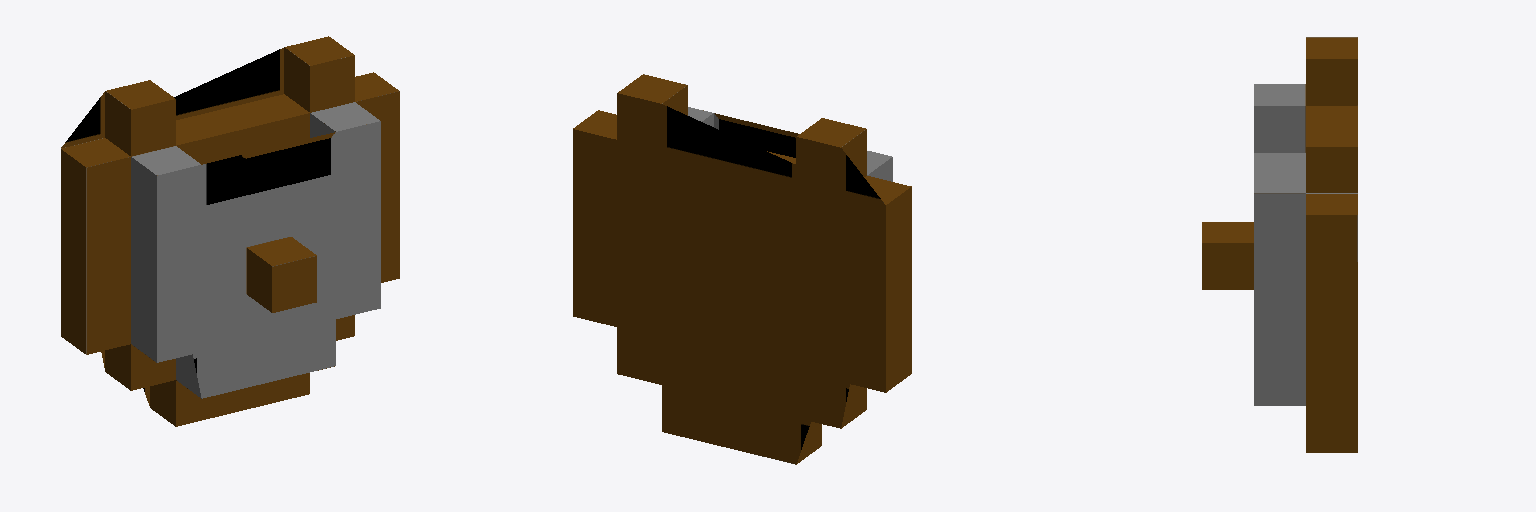
The picture shows the model from 3 angles: view 1: azimuth 30°, elevation 25°; view 2: azimuth 150°, elevation 25°; view 3: azimuth 270°, elevation 25°; orthographic projection.
Parts seen in each view (by area): view 1: Shield_1_Shield_1.001; view 2: Shield_1_Shield_1.001; view 3: Shield_1_Shield_1.001.
Boxes of the visible parts, box(x1,y1,x2,y2) form: Shield_1_Shield_1.001: box(61, 36, 399, 426); Shield_1_Shield_1.001: box(573, 74, 911, 464); Shield_1_Shield_1.001: box(1202, 37, 1357, 452).
Size of the model in its own units: 0.7 by 0.7 by 0.3.
Materials: 1 (1 with a texture image).